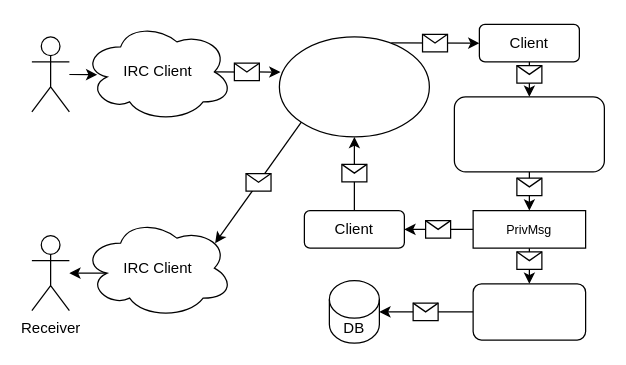
The diagram is 626 pixels wide and 365 high, and some of its shapes have lost their labels. Here are the shapes that lost their labels. From the top down, the centre of each, then its label:
At point (50, 74): "Sender".
At point (353, 86): "Server".
At point (528, 134): "CommandHandler".
At point (529, 311): "DBConn".
